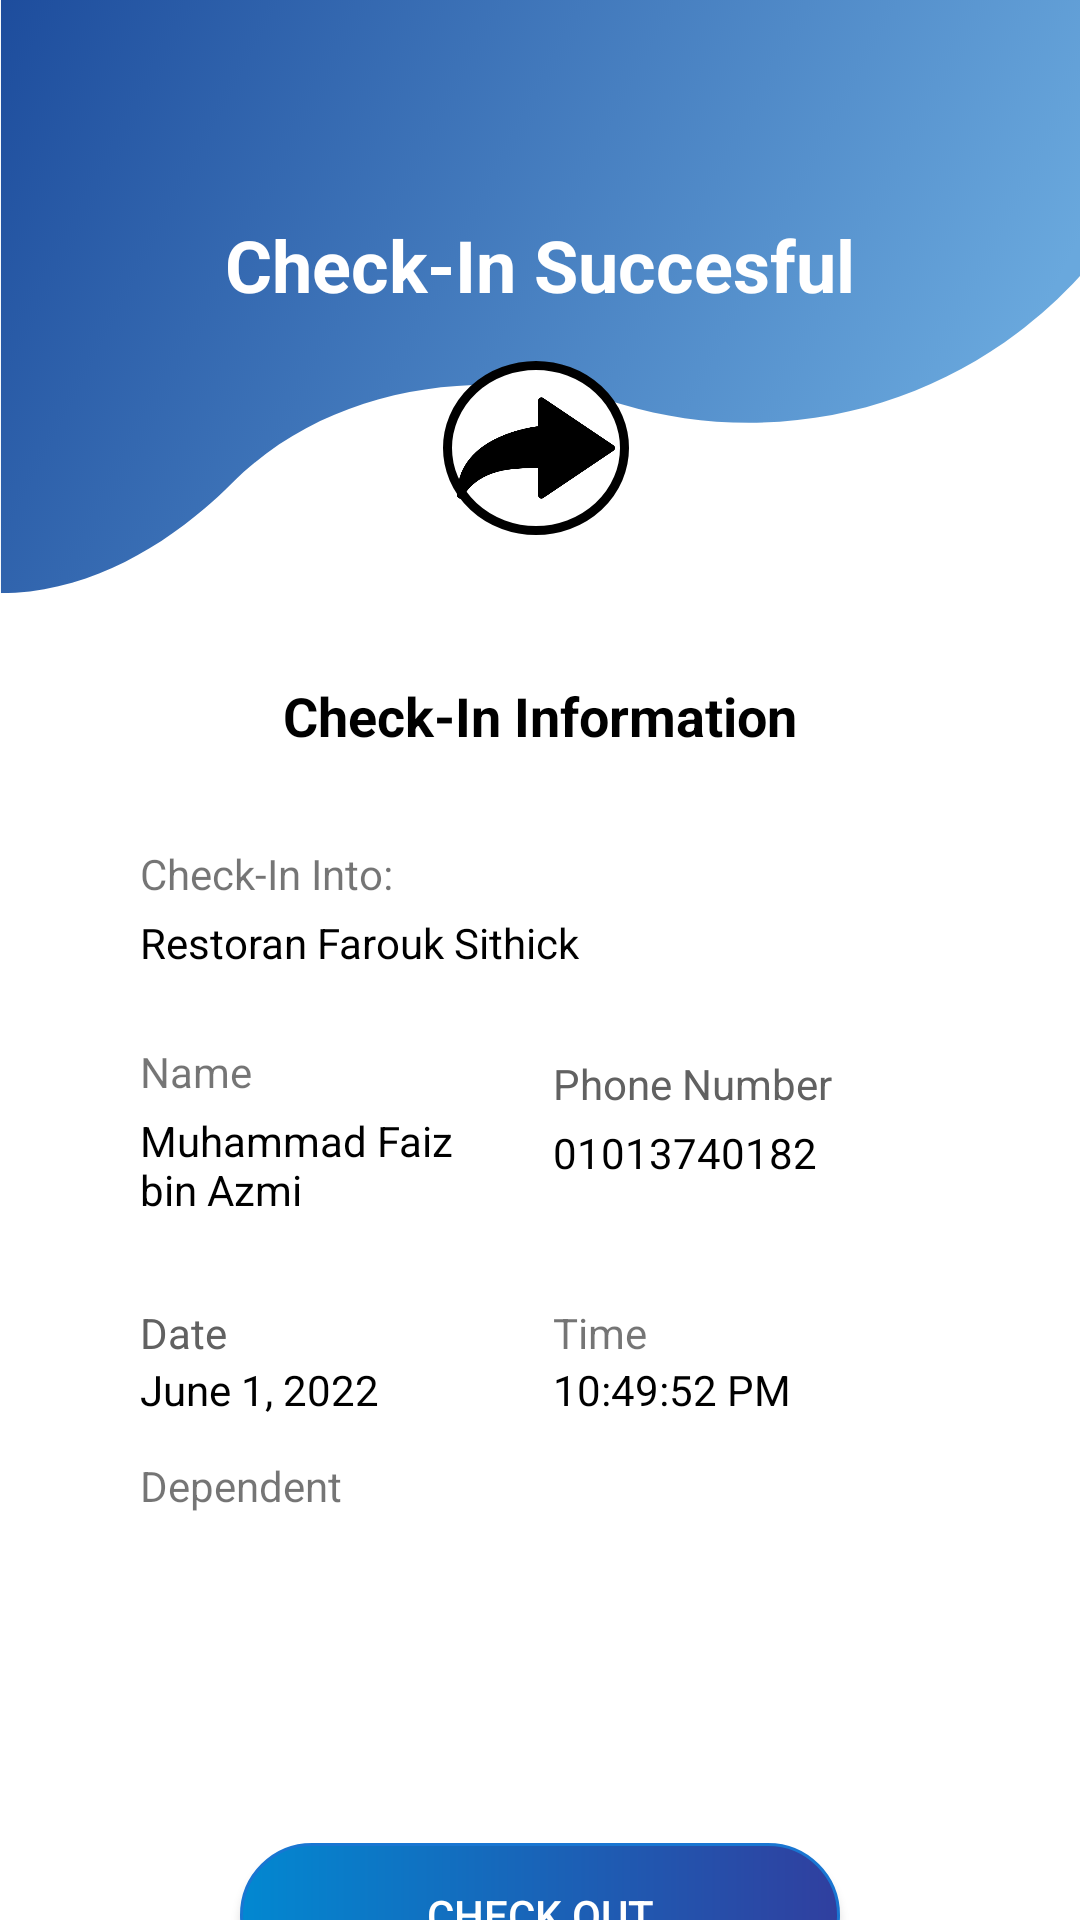

Locate icon controls on the screen. Image size 1080*1920, boxes as (x1, y1, x2, y2).
in arrow: (443, 361, 629, 535)
